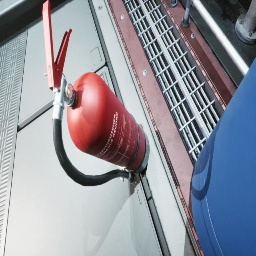FireExtinguisher ]: (43, 0, 150, 186)
